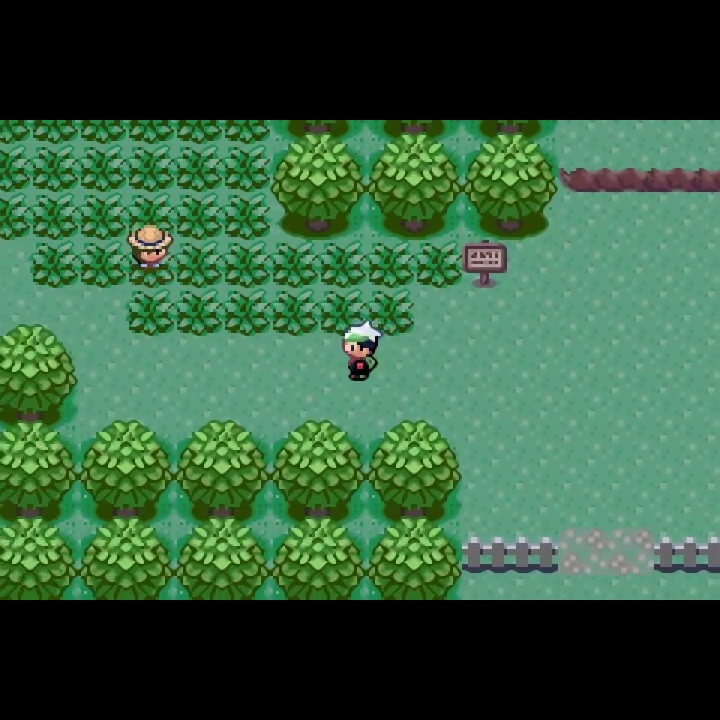grass: (413, 240, 465, 291), (29, 240, 80, 290), (221, 192, 272, 242), (31, 192, 81, 241), (79, 143, 127, 194), (272, 241, 320, 291), (175, 145, 223, 195), (221, 242, 272, 289), (127, 289, 176, 337), (79, 241, 127, 290), (80, 192, 128, 241), (223, 145, 271, 194), (223, 289, 273, 336), (320, 290, 371, 336), (369, 240, 415, 291), (176, 240, 222, 291), (177, 192, 225, 240), (32, 145, 80, 193), (271, 289, 320, 336), (176, 290, 224, 337), (319, 241, 368, 287), (128, 145, 174, 194), (369, 290, 414, 337), (127, 191, 177, 223), (1, 143, 30, 195), (1, 192, 30, 242), (127, 120, 175, 146), (222, 120, 271, 145), (78, 120, 129, 144), (32, 120, 80, 145), (175, 120, 223, 144), (1, 119, 31, 144)
npc: (337, 319, 385, 388), (127, 222, 174, 288)
wall: (463, 138, 558, 242), (368, 137, 464, 238), (79, 420, 176, 519), (273, 138, 365, 241), (269, 422, 366, 519), (366, 419, 463, 516), (176, 421, 270, 519), (79, 514, 175, 600), (1, 321, 79, 425), (368, 514, 461, 600), (271, 516, 366, 599), (176, 516, 269, 599), (1, 423, 77, 523), (1, 518, 79, 601), (461, 121, 556, 144), (369, 120, 461, 143), (274, 121, 365, 143)
